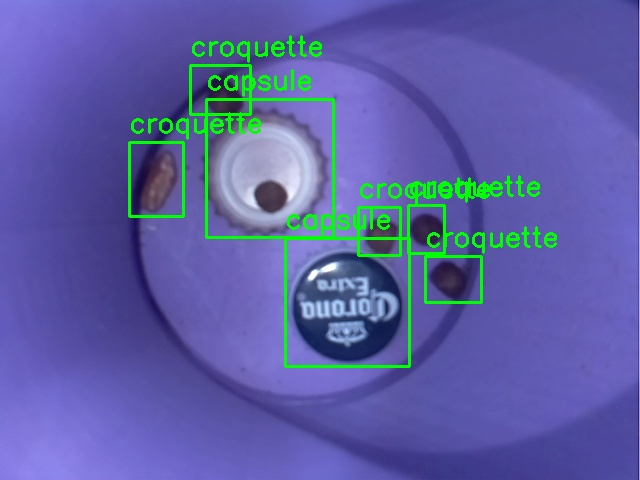capsule: (206, 99, 333, 237), (285, 238, 409, 366)
croquette: (129, 142, 183, 216), (190, 65, 250, 114), (425, 256, 481, 302), (358, 207, 400, 255), (408, 205, 444, 253)
